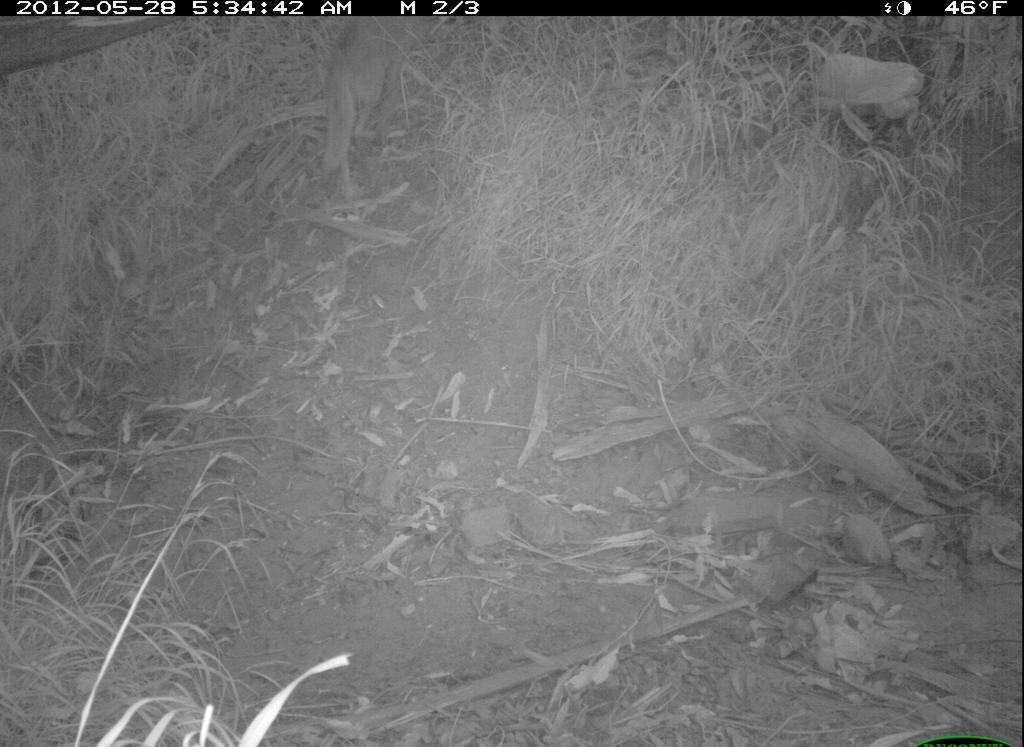coyote: (314, 17, 417, 178)
